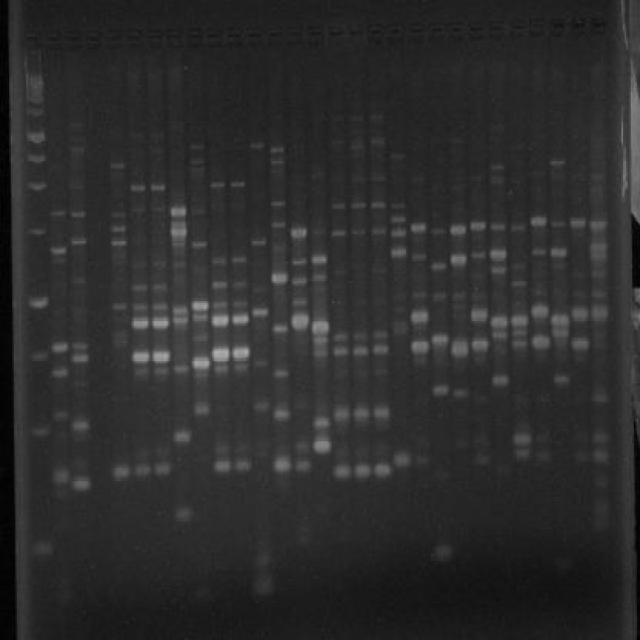B: (271, 450, 294, 476), (409, 306, 431, 328), (289, 310, 311, 332), (408, 336, 430, 358), (312, 435, 334, 457), (392, 450, 414, 472), (372, 460, 394, 482), (590, 301, 610, 324), (570, 303, 590, 325), (429, 332, 451, 352), (350, 402, 372, 422), (332, 402, 352, 424), (372, 402, 392, 424), (212, 456, 234, 476), (130, 460, 152, 480), (72, 472, 92, 494), (530, 333, 552, 352), (452, 337, 470, 360), (530, 302, 550, 322), (234, 456, 254, 476), (470, 304, 488, 326), (549, 312, 571, 330), (472, 333, 490, 355), (69, 416, 91, 434), (109, 462, 131, 480), (49, 466, 71, 484), (413, 450, 432, 470), (175, 504, 194, 524), (448, 220, 468, 238), (450, 249, 468, 269), (571, 337, 591, 355), (192, 400, 212, 418), (513, 430, 533, 448), (332, 462, 352, 480), (434, 544, 454, 562), (129, 316, 151, 332), (190, 356, 212, 372), (490, 373, 512, 389), (296, 456, 312, 478), (529, 212, 548, 230), (312, 318, 331, 336), (293, 438, 312, 456), (473, 450, 492, 468), (210, 313, 230, 330), (592, 447, 612, 464), (452, 384, 470, 402), (354, 462, 372, 480), (171, 430, 194, 444), (588, 218, 608, 234), (510, 313, 530, 329), (370, 342, 390, 358), (350, 343, 370, 359), (231, 346, 251, 362), (151, 348, 171, 364), (131, 350, 151, 366), (252, 398, 272, 414), (390, 244, 408, 261), (490, 313, 508, 330), (212, 347, 230, 364), (552, 372, 571, 388), (313, 414, 332, 430), (290, 224, 308, 240), (430, 258, 448, 274), (270, 270, 288, 286), (332, 343, 350, 359), (432, 382, 450, 398), (549, 328, 571, 341), (69, 341, 91, 354), (69, 352, 91, 365), (153, 461, 172, 476), (589, 240, 609, 254), (488, 248, 508, 262), (290, 294, 310, 308), (229, 297, 249, 311), (210, 297, 230, 311), (230, 314, 250, 328), (49, 340, 69, 354), (130, 366, 150, 380), (272, 408, 292, 422), (569, 217, 588, 231), (592, 430, 611, 444), (48, 245, 68, 258), (310, 271, 330, 284), (210, 278, 230, 291), (130, 282, 150, 295), (130, 301, 150, 314), (270, 322, 290, 335), (370, 329, 390, 342), (350, 331, 370, 344), (510, 338, 530, 351), (230, 362, 250, 375), (49, 366, 69, 379), (272, 366, 292, 379), (170, 204, 187, 219), (488, 174, 506, 188), (470, 218, 488, 232), (410, 220, 428, 234), (550, 246, 568, 260), (310, 252, 328, 266), (192, 298, 210, 312), (252, 304, 270, 318), (152, 364, 170, 378), (51, 409, 70, 422), (590, 288, 610, 300), (430, 290, 450, 302), (470, 290, 490, 302), (513, 448, 533, 460), (470, 248, 488, 261), (230, 255, 248, 268), (210, 255, 228, 268), (290, 275, 308, 288), (152, 316, 170, 329), (332, 331, 350, 344), (252, 356, 270, 369), (592, 391, 610, 404), (549, 218, 568, 230), (509, 260, 528, 272), (509, 278, 528, 290), (490, 220, 507, 233), (390, 227, 407, 240), (311, 336, 331, 347), (190, 238, 208, 250), (590, 268, 608, 280), (172, 304, 190, 316), (212, 364, 230, 376), (69, 276, 88, 287), (312, 348, 331, 359), (249, 140, 266, 152), (170, 228, 187, 240), (490, 264, 507, 276), (450, 302, 470, 312), (150, 302, 170, 312), (510, 328, 530, 338), (548, 157, 566, 168), (110, 237, 128, 248), (70, 237, 88, 248), (530, 247, 548, 258), (290, 256, 308, 267), (490, 331, 508, 342), (412, 288, 428, 300), (172, 364, 188, 376), (187, 142, 206, 152), (148, 182, 167, 192), (229, 179, 246, 190), (209, 179, 226, 190), (390, 213, 407, 224), (509, 222, 526, 233), (370, 226, 387, 237), (350, 227, 367, 238), (250, 237, 267, 248), (268, 144, 286, 154), (68, 208, 86, 218), (410, 252, 428, 262), (172, 316, 190, 326), (190, 333, 210, 342), (390, 199, 406, 210), (331, 227, 347, 238), (232, 279, 248, 290), (187, 157, 206, 166), (109, 211, 128, 220), (130, 182, 147, 192), (268, 157, 286, 166), (370, 200, 388, 209), (110, 224, 128, 233), (430, 227, 448, 236), (590, 254, 608, 263), (50, 208, 66, 218), (152, 282, 168, 292), (112, 302, 128, 312), (189, 207, 206, 216), (270, 220, 287, 229), (169, 220, 188, 228), (270, 200, 288, 208), (69, 145, 86, 153), (389, 152, 406, 160), (350, 202, 367, 210), (330, 202, 347, 210), (109, 162, 125, 170), (452, 292, 468, 300), (192, 313, 208, 321), (490, 163, 504, 171)
L: (20, 10, 611, 48)
M: (19, 52, 58, 566)
P: (30, 538, 56, 560), (24, 70, 46, 95), (24, 126, 48, 146), (24, 148, 48, 167), (29, 422, 53, 440), (24, 295, 50, 311), (24, 104, 46, 121), (27, 348, 50, 363), (26, 178, 48, 193), (26, 224, 48, 238), (24, 94, 46, 105)
Pc: (548, 14, 567, 42), (569, 14, 588, 42), (528, 14, 548, 40), (264, 22, 284, 46), (326, 20, 344, 46), (589, 17, 609, 40), (306, 22, 325, 46), (366, 20, 384, 45), (508, 15, 526, 40), (20, 28, 42, 48), (184, 24, 204, 46), (224, 24, 244, 46), (386, 20, 406, 42), (406, 19, 426, 41), (466, 18, 486, 40), (346, 21, 364, 44), (488, 17, 506, 40), (143, 26, 163, 46), (447, 18, 465, 40), (63, 27, 82, 47), (123, 26, 142, 46), (164, 26, 183, 46), (204, 26, 223, 46), (245, 24, 264, 44), (287, 23, 304, 45), (104, 26, 122, 46), (427, 21, 445, 41), (85, 26, 102, 46), (43, 28, 60, 47)
